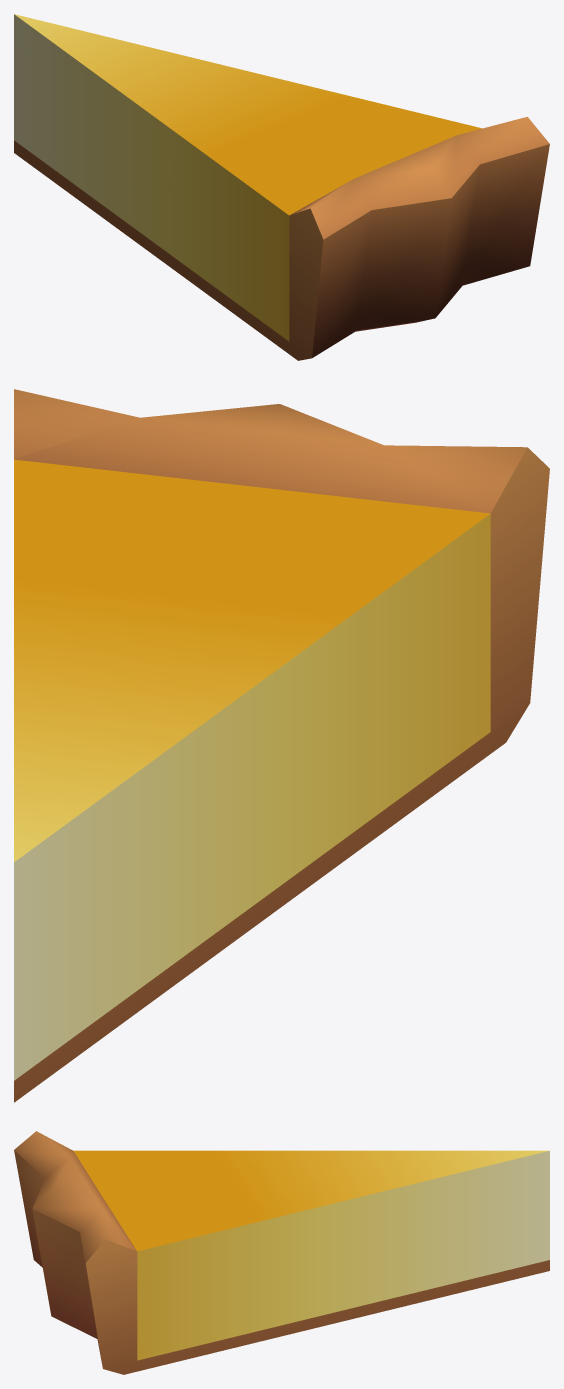
Rendered from m_TarteAuCitron01_Slice.fbx.
3 renders of one model, top to bottom at view 1: azimuth 30°, elevation 25°; view 2: azimuth 150°, elevation 25°; view 3: azimuth 270°, elevation 25°, orthographic. The views are drawn at different scales.
Visible parts, largest first — view 1: m_TarteAuCitron01_Slice; view 2: m_TarteAuCitron01_Slice; view 3: m_TarteAuCitron01_Slice.
Boxes of the visible parts, x1,y1,x2,y2 form: m_TarteAuCitron01_Slice: [14, 14, 549, 360]; m_TarteAuCitron01_Slice: [14, 389, 549, 1102]; m_TarteAuCitron01_Slice: [14, 1131, 549, 1374].
Size of the model in its own units: 7 by 4.03 by 14.
